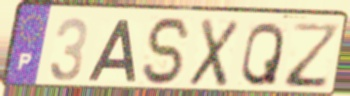3: (49, 15, 89, 83)
A: (85, 17, 138, 84)
Q: (238, 20, 287, 89)
S: (140, 15, 194, 88)
X: (186, 16, 243, 90)
Z: (283, 21, 343, 91)
